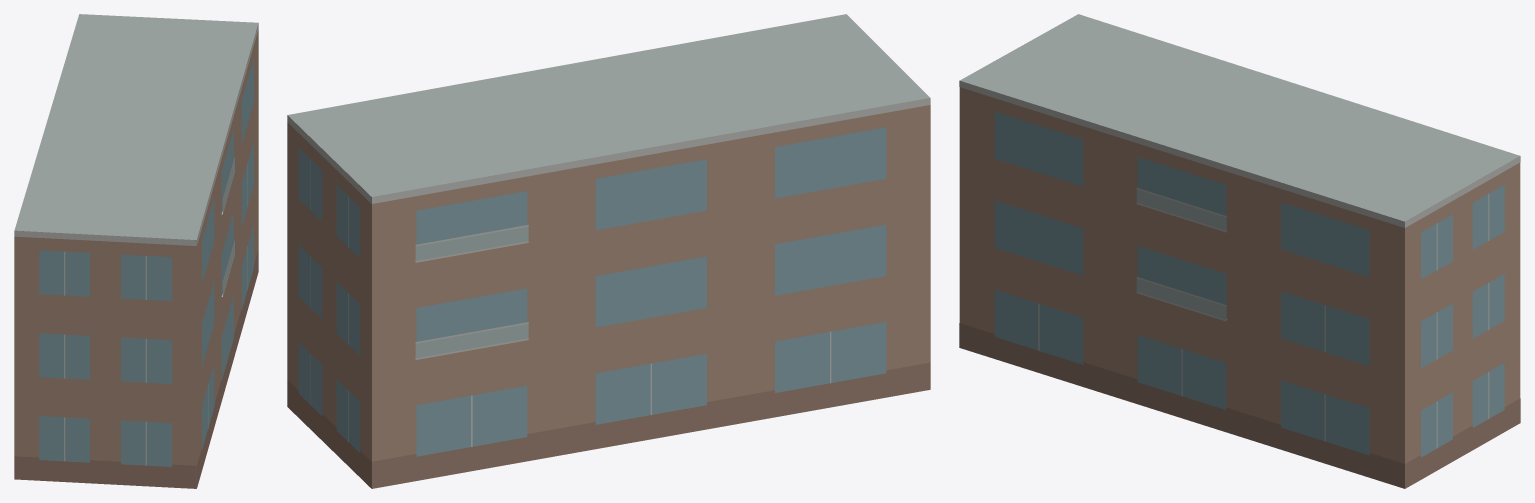
File: survey-upis-32638804.glb
3 renders of one model, left to right at view 1: azimuth 30°, elevation 25°; view 2: azimuth 150°, elevation 25°; view 3: azimuth 270°, elevation 25°, orthographic. The views are drawn at different scales.
Parts seen in each view (by area): view 1: survey-upis-32638804.tmp; view 2: survey-upis-32638804.tmp; view 3: survey-upis-32638804.tmp.
Boxes of the visible parts, box(x1,y1,x2,y2) form: survey-upis-32638804.tmp: box(14, 14, 258, 488); survey-upis-32638804.tmp: box(287, 14, 930, 488); survey-upis-32638804.tmp: box(959, 14, 1520, 488).
Size of the model in its own units: 17.01 by 10.2 by 19.41.
